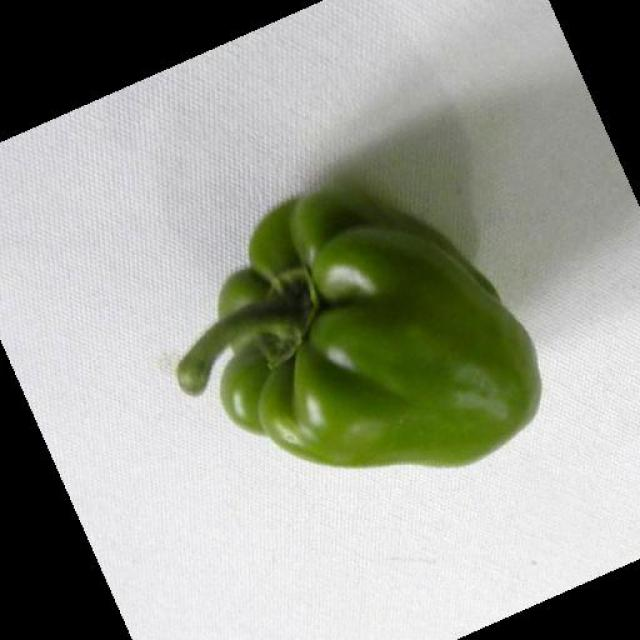Fresh_Capsicum: (192, 215, 536, 468)
